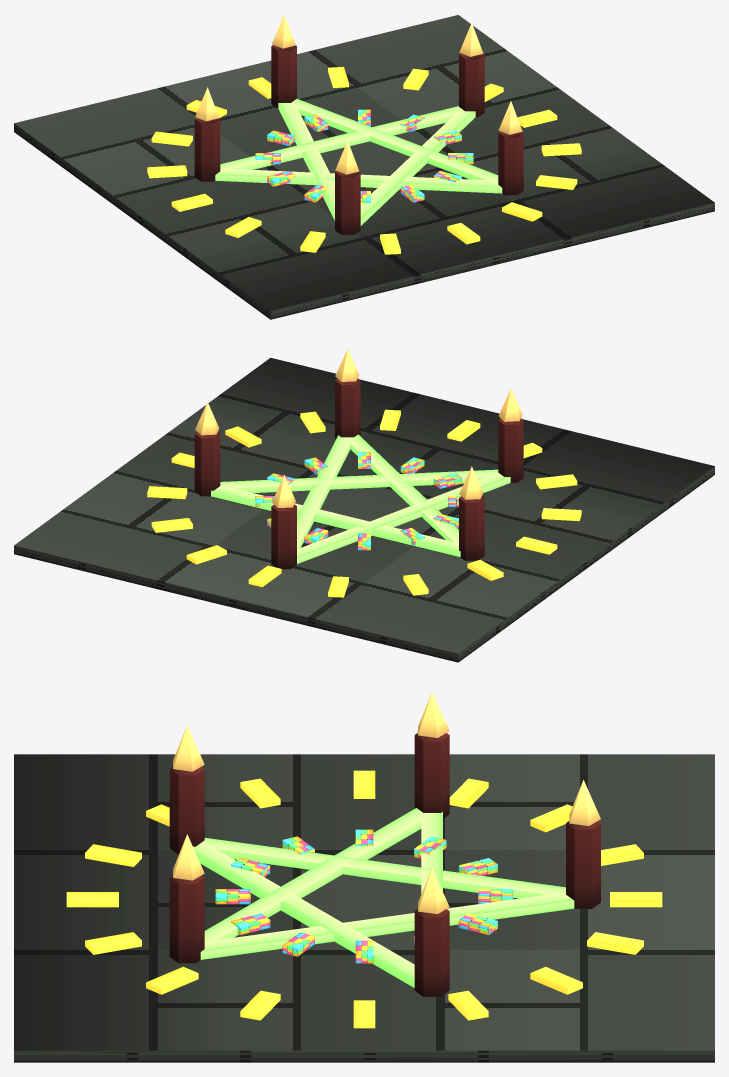
The model's file is summoning_circle.gltf.
The picture shows the model from 3 angles, top to bottom: view 1: azimuth 30°, elevation 25°; view 2: azimuth 150°, elevation 25°; view 3: azimuth 270°, elevation 25°; orthographic projection. The views are drawn at different scales.
Visible parts, largest first — view 1: summoning_circle; view 2: summoning_circle; view 3: summoning_circle.
Boxes of the visible parts, x1,y1,x2,y2 form: summoning_circle: (14,14,714,319); summoning_circle: (14,349,714,662); summoning_circle: (14,691,714,1062).
Bounding box in the file's own units: 1.6 × 0.34 × 1.6.
Materials: 1 (1 with a texture image).
